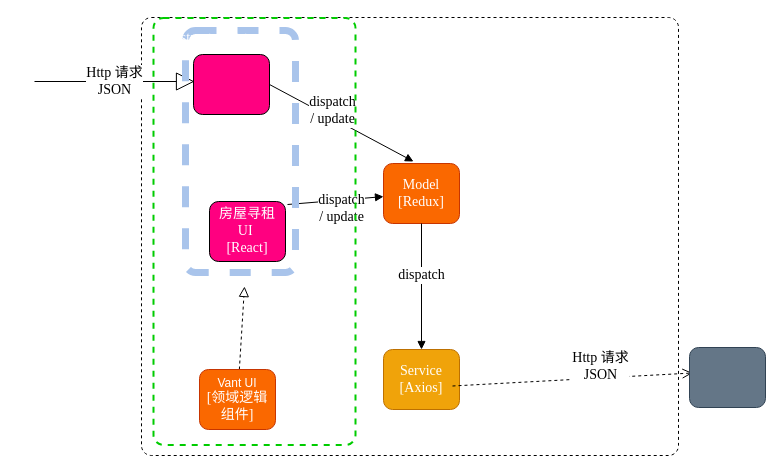
Image size: 783x473. Some labels were removed from this diagram. The shapes that lost their labels are listed below. From the top down, each one's centre as x and y in pixels, then its label:
pixel 231 84: 租赁委托UI [React]
pixel 727 377: BFF [Node]
